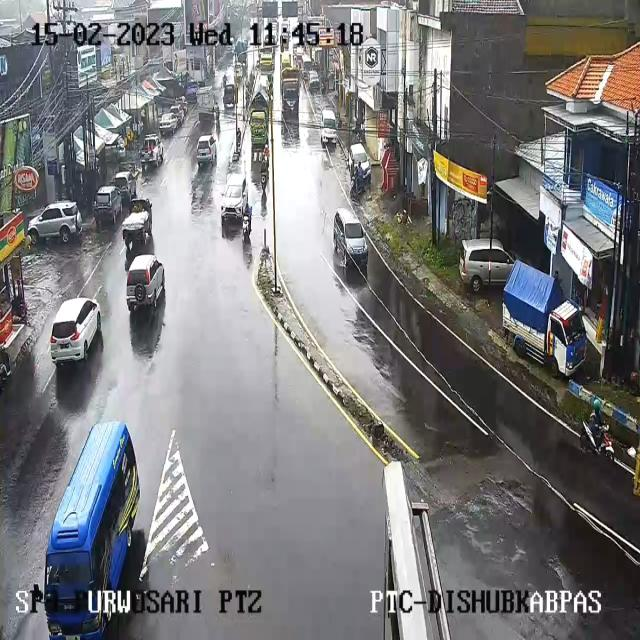Bus: (44, 418, 142, 640)
Car: (48, 296, 105, 364), (459, 238, 515, 294), (28, 200, 84, 244), (126, 254, 165, 311), (332, 208, 367, 270), (220, 172, 248, 225), (93, 186, 125, 228), (123, 205, 156, 242), (345, 142, 369, 184), (139, 135, 164, 168), (111, 171, 136, 201), (195, 134, 218, 166), (320, 109, 338, 142), (158, 112, 180, 135), (222, 82, 235, 108), (170, 105, 187, 124), (307, 70, 321, 92), (301, 54, 312, 76), (177, 101, 188, 117), (234, 62, 245, 76)
Motorbike: (578, 394, 618, 464), (351, 163, 365, 195), (242, 206, 253, 238), (259, 159, 269, 188), (262, 145, 272, 162), (215, 104, 220, 123)
Truck: (504, 264, 590, 380), (248, 85, 269, 142), (280, 70, 301, 120), (196, 88, 214, 117), (257, 50, 276, 68), (277, 50, 295, 66)
